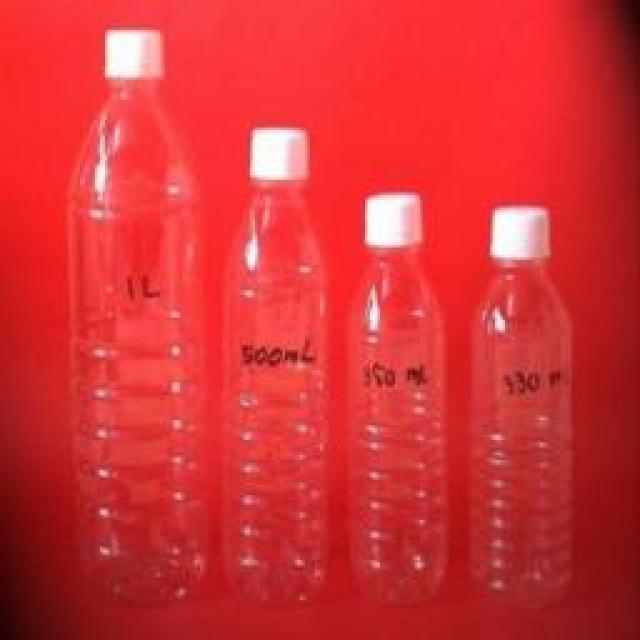bottle: (73, 27, 207, 612), (228, 122, 335, 608), (477, 197, 575, 603), (358, 195, 452, 602)
